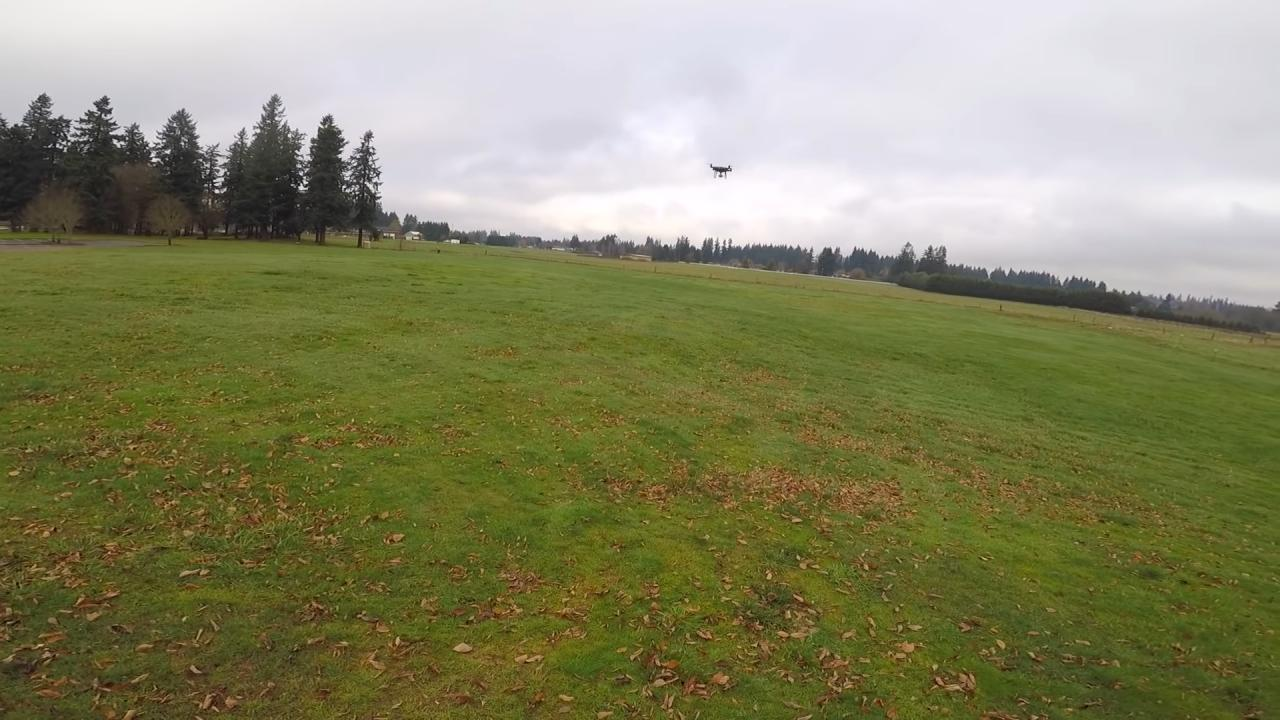Drone: (699, 153, 738, 185)
